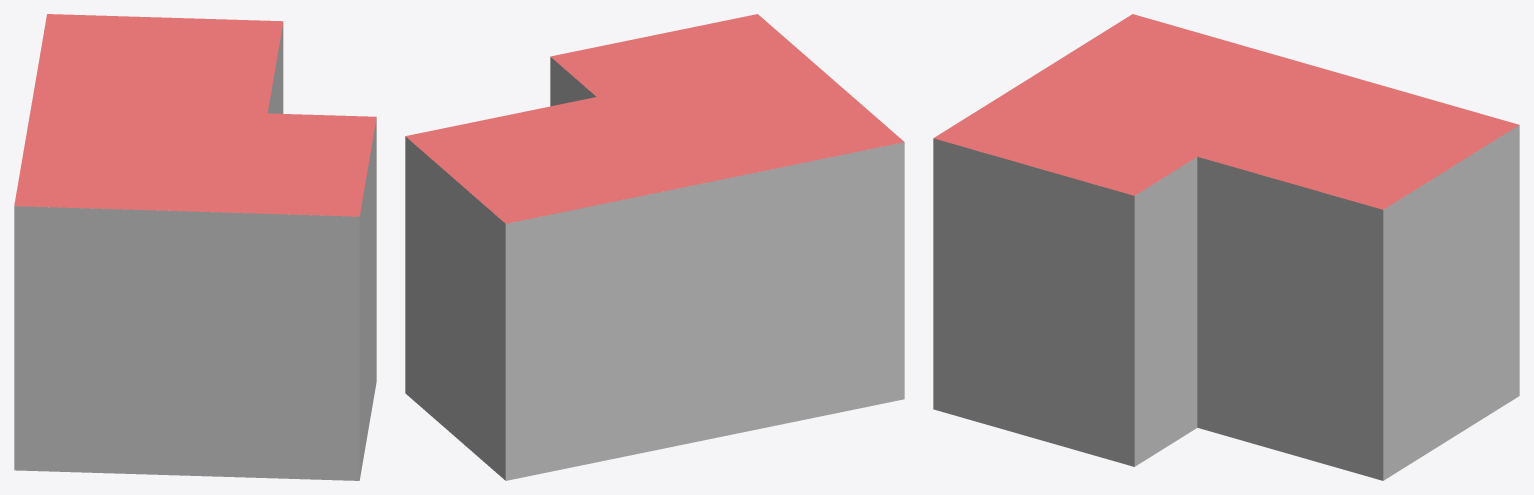
The picture shows the model from 3 angles, left to right: view 1: azimuth 30°, elevation 25°; view 2: azimuth 150°, elevation 25°; view 3: azimuth 270°, elevation 25°; orthographic projection. The views are drawn at different scales.
Parts seen in each view (by area): view 1: Z_UP; view 2: Z_UP; view 3: Z_UP.
Boxes of the visible parts, <box> form: Z_UP: <box>14,14,376,480</box>; Z_UP: <box>405,14,904,480</box>; Z_UP: <box>933,14,1519,480</box>.
Size of the model in its own units: 24.79 by 16 by 31.36.
